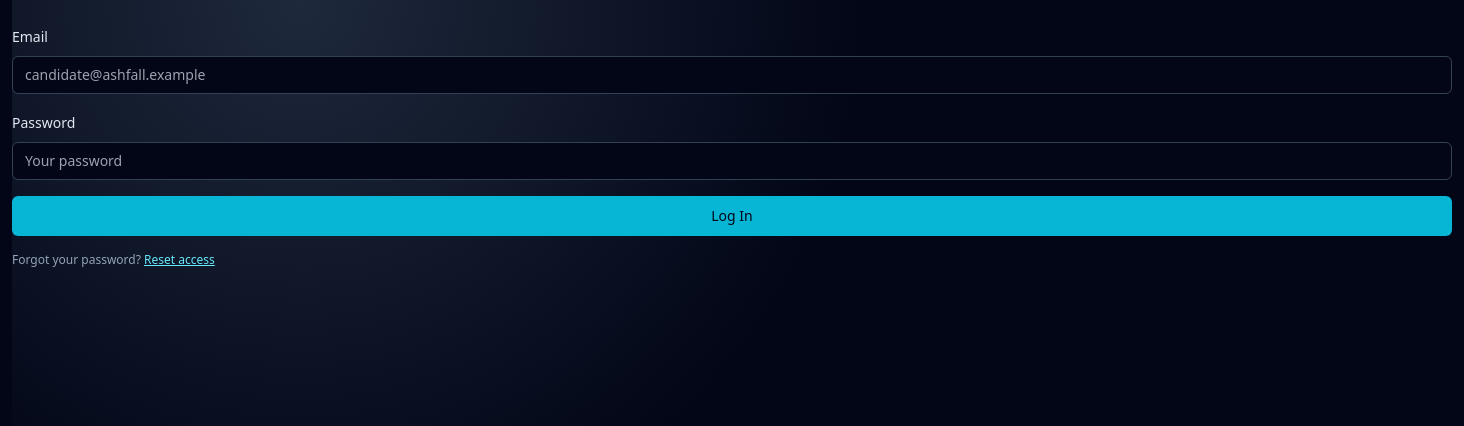
Test: LoginForm accessibility › links field errors to controls using aria attributes
In the field labelled "Email": (732, 75) [12,56,1452,94], type "candidate@example.com"
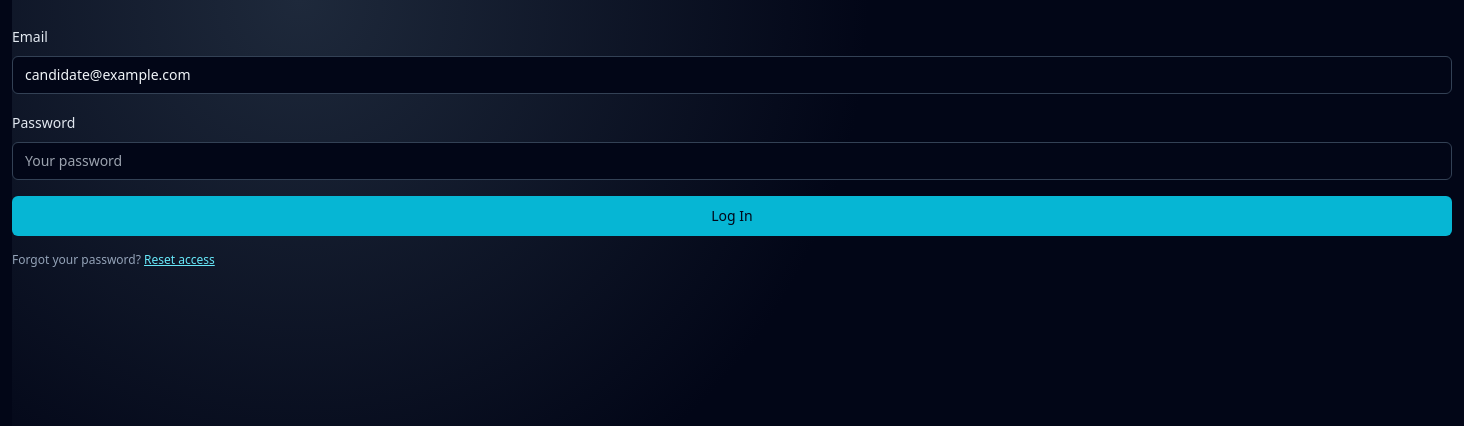
Submit the form with test id "login-submit", box [12,24,1452,268]
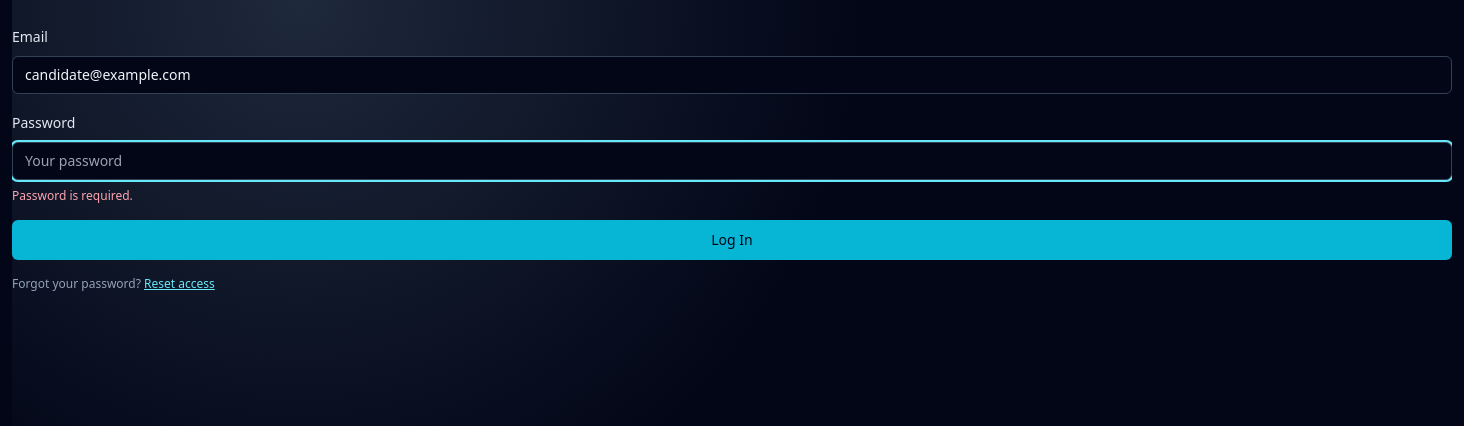
Result: the text "Password is required." is shown at [12,187,133,204]
